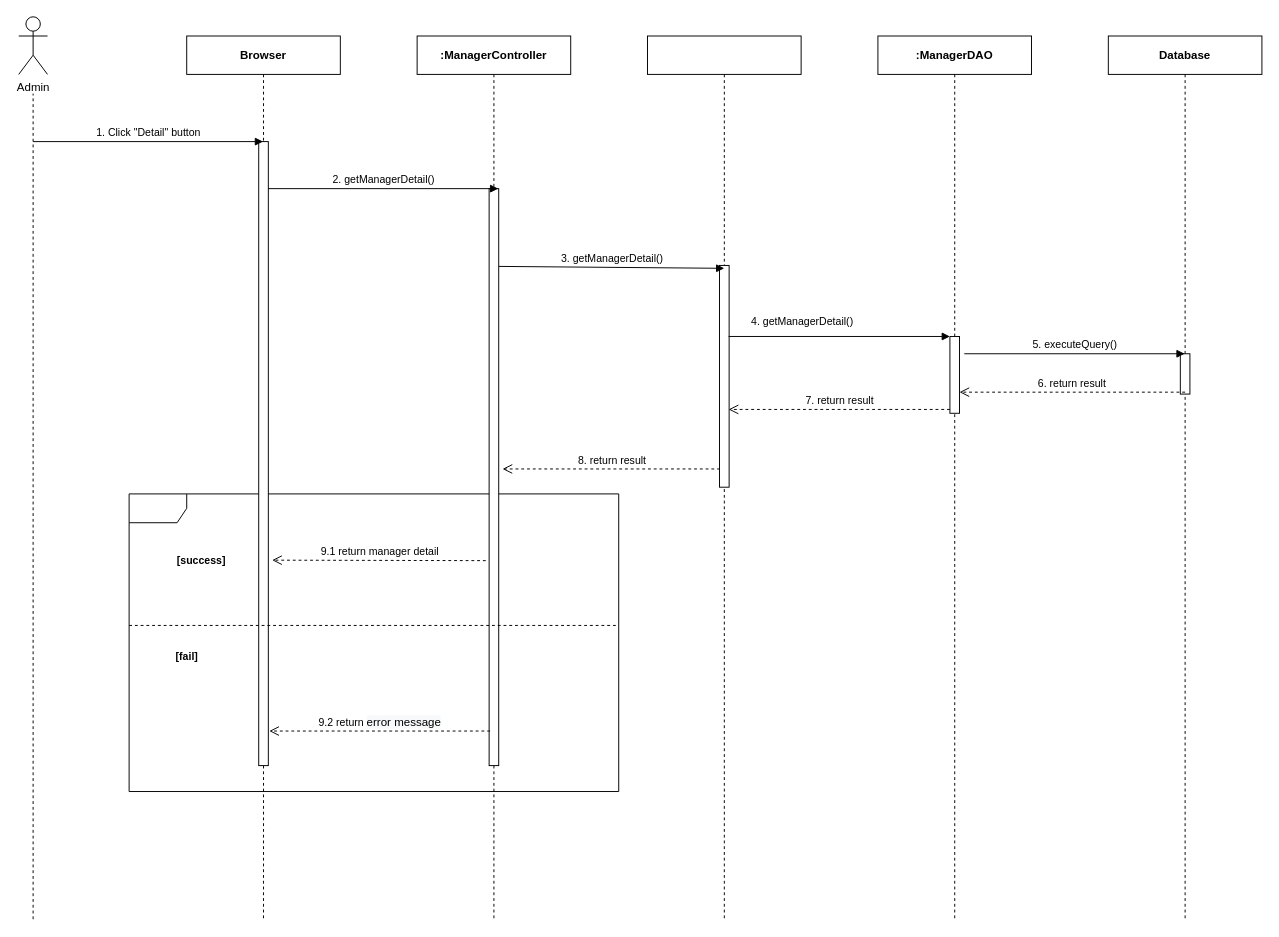
Some shapes in this 1279 by 937 pixel diagram are drawn without their labels. The shapes that lost their labels are listed below. From the top down, each one's centre as x and y in pixels, then its label:
At point (724, 477): ":ManagerService".
At point (373, 642): "alt".
